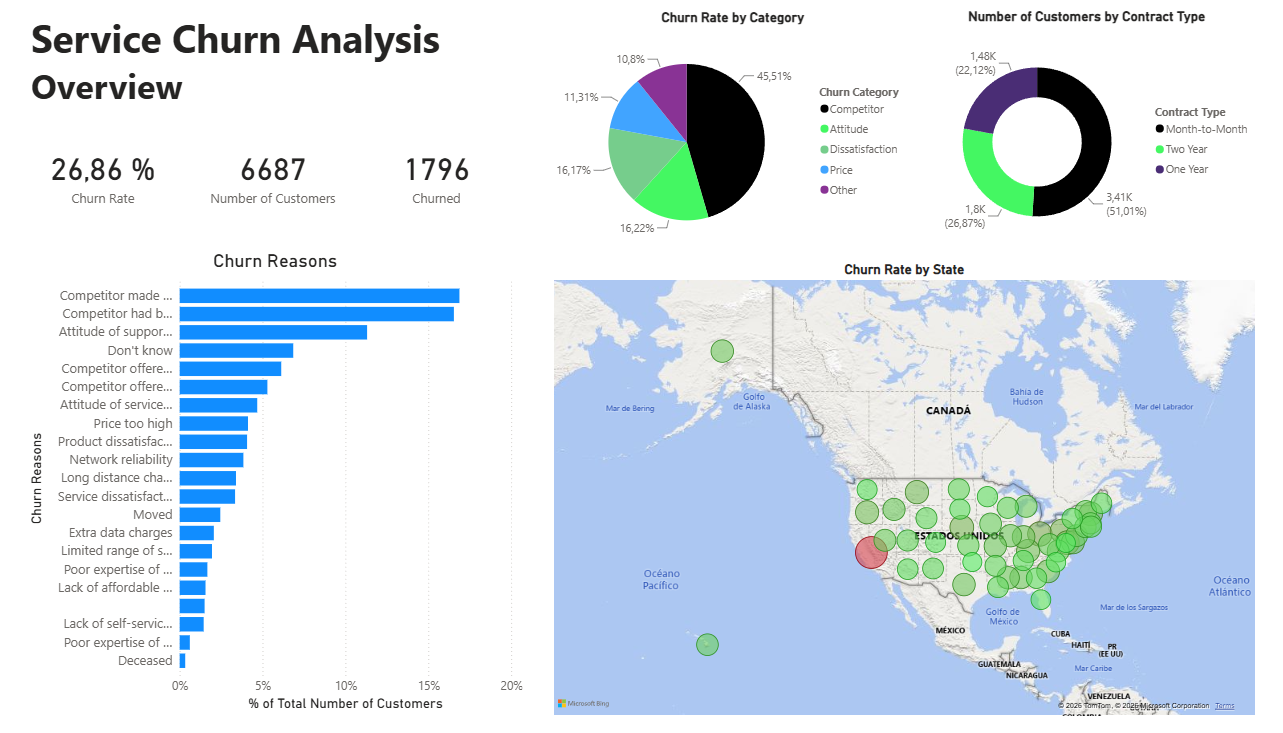

This screenshot's page, from the dashboard's own definition file:
{"tool":"powerbi","page":{"name":"Overview","canvas":[1640,960],"ordinal":0},"visuals":[{"type":"card","fields":{"Values":["Databel - Data.Churn Rate"]},"box":[41.6,168.6,211.6,123.3],"z":0},{"type":"card","fields":{"Values":["Databel - Data.Number of Customers"]},"box":[253.2,168.6,211.6,123.3],"z":1000},{"type":"card","fields":{"Values":["Sum(Databel - Data.Churned)"]},"box":[457.5,168.6,210.4,123.3],"z":2000},{"type":"clusteredBarChart","title":"Churn Reasons","fields":{"Category":["Databel - Data.Churn Reason"],"Y":["CountNonNull(Databel - Data.Number of Customers in Group)"]},"box":[48.4,324,626.3,579.1],"z":3000},{"type":"donutChart","fields":{"Y":["Count(Databel - Data.Customer ID)"],"Category":["Databel - Data.Contract Type"]},"box":[1159.1,23,428.2,314.8],"z":4000},{"type":"pieChart","title":"Churn Rate by Category","fields":{"Category":["Databel - Data.Churn Category"],"Y":["CountNonNull(Databel - Data.Churn Label)"]},"box":[703.9,23.5,455.6,312.8],"z":5000},{"type":"map","fields":{"Category":["Databel - Data.State"],"Size":["Databel - Data.Churn Rate"]},"box":[703.8,337.7,883.5,571.4],"z":6000},{"type":"textbox","box":[52.7,21.6,625.5,131],"z":7000}]}

Visuals, with their boxes in screenshot pixels (x1, y1, x2, y2), scaled from the page's 1640x960 canvas onto the 1283x733 screenshot:
card - Databel - Data.Churn Rate: locate(33, 129, 198, 223)
card - Databel - Data.Number of Customers: locate(198, 129, 364, 223)
card - Sum(Databel - Data.Churned): locate(358, 129, 523, 223)
"Churn Reasons" clusteredBarChart: locate(38, 247, 528, 690)
donutChart - Count(Databel - Data.Customer ID) x Databel - Data.Contract Type: locate(907, 18, 1242, 258)
"Churn Rate by Category" pieChart: locate(551, 18, 907, 257)
map - Databel - Data.State x Databel - Data.Churn Rate: locate(551, 258, 1242, 694)
textbox: locate(41, 16, 531, 117)
